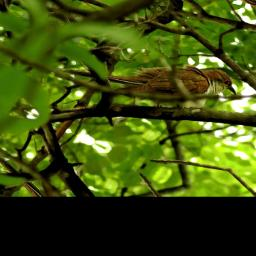Cuckoo: (57, 13, 248, 139)
